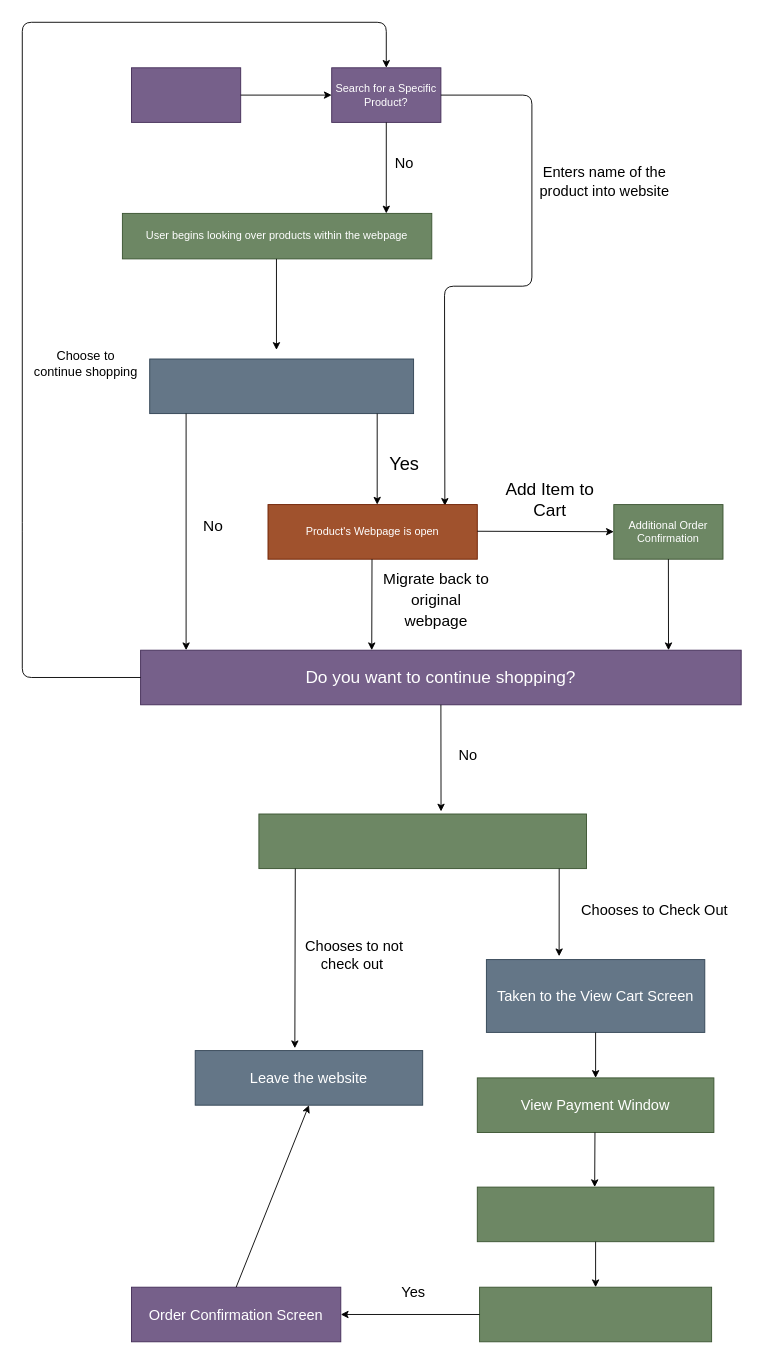
The diagram is 766 pixels wide and 1358 high, and some of its shapes have lost their labels. Here are the shapes that lost their labels. From the top down, the centre of each, then its label:
At point (186, 94): "User Enters Website".
At point (281, 386): "View a specific product within the website?".
At point (422, 841): "Checkout?".
At point (595, 1214): "Enters Payment Information".
At point (595, 1314): "Payment Accepted?".
